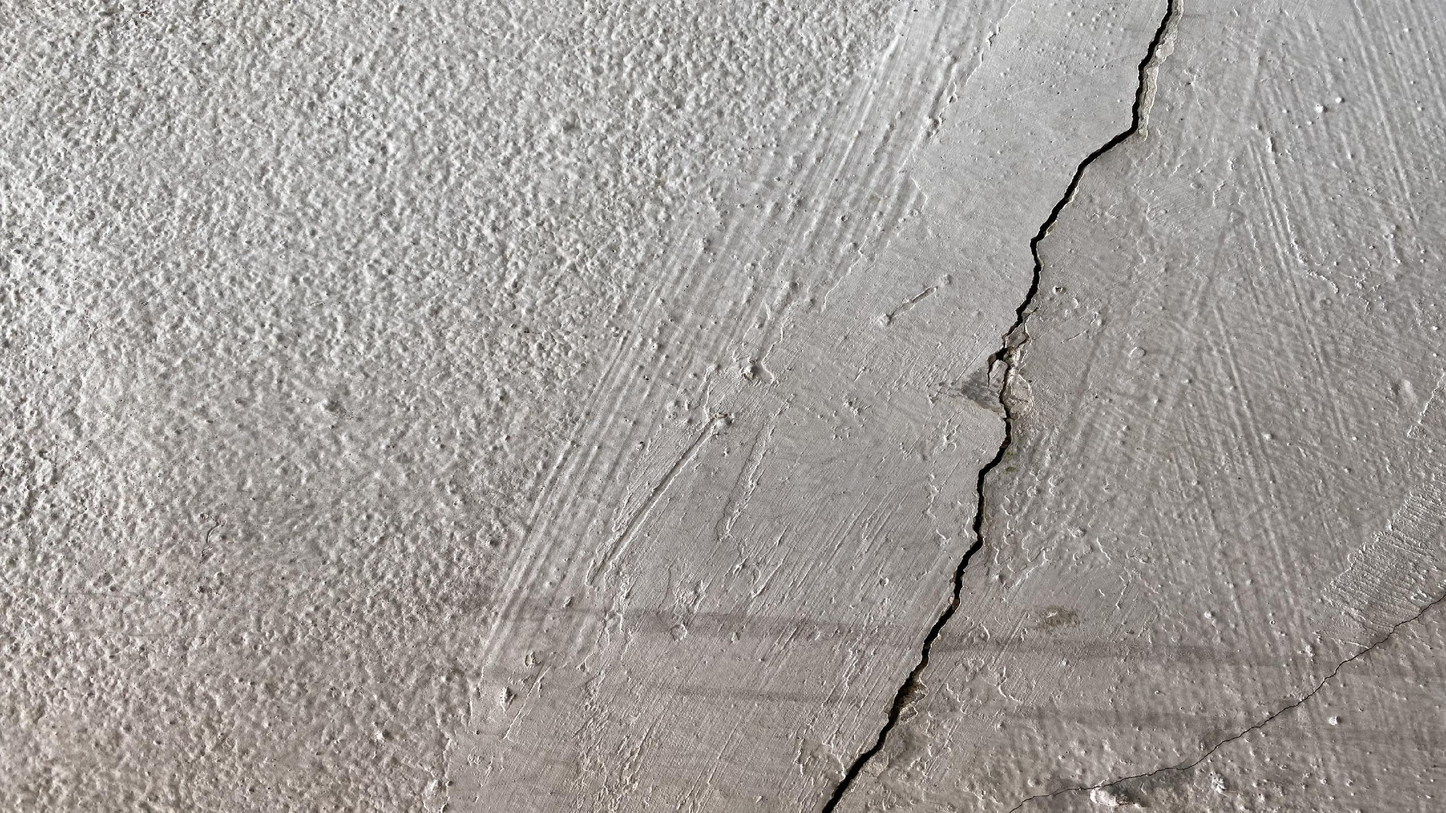crack: (820, 0, 1176, 812)
